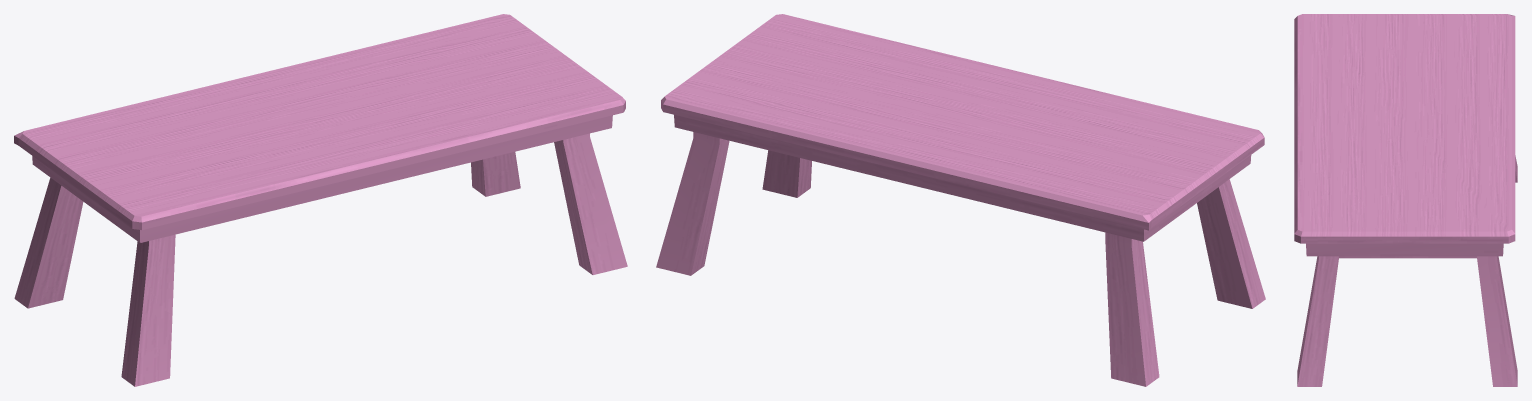
File: Bench_H.FBX
The picture shows the model from 3 angles, left to right: view 1: azimuth 30°, elevation 25°; view 2: azimuth 150°, elevation 25°; view 3: azimuth 270°, elevation 25°; orthographic projection. The views are drawn at different scales.
Visible parts, largest first — view 1: Bench; view 2: Bench; view 3: Bench.
Part boxes in pixels (left/top/right/bottom): Bench: left=14, top=14, right=627, bottom=386; Bench: left=656, top=14, right=1265, bottom=386; Bench: left=1294, top=14, right=1517, bottom=386.
Size of the model in its own units: 281 by 91.5 by 120.
